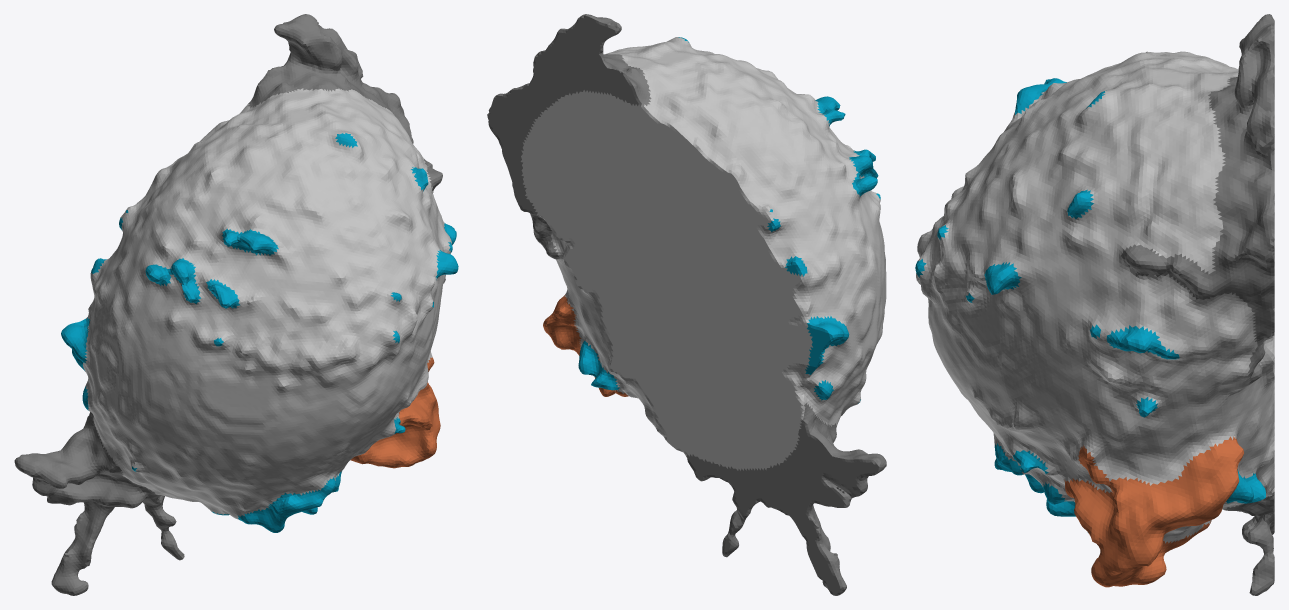
3 renders of one model, left to right at view 1: azimuth 30°, elevation 25°; view 2: azimuth 150°, elevation 25°; view 3: azimuth 270°, elevation 25°, orthographic. The views are drawn at different scales.
Bounding box in the file's own units: 115 × 146 × 71.82.
